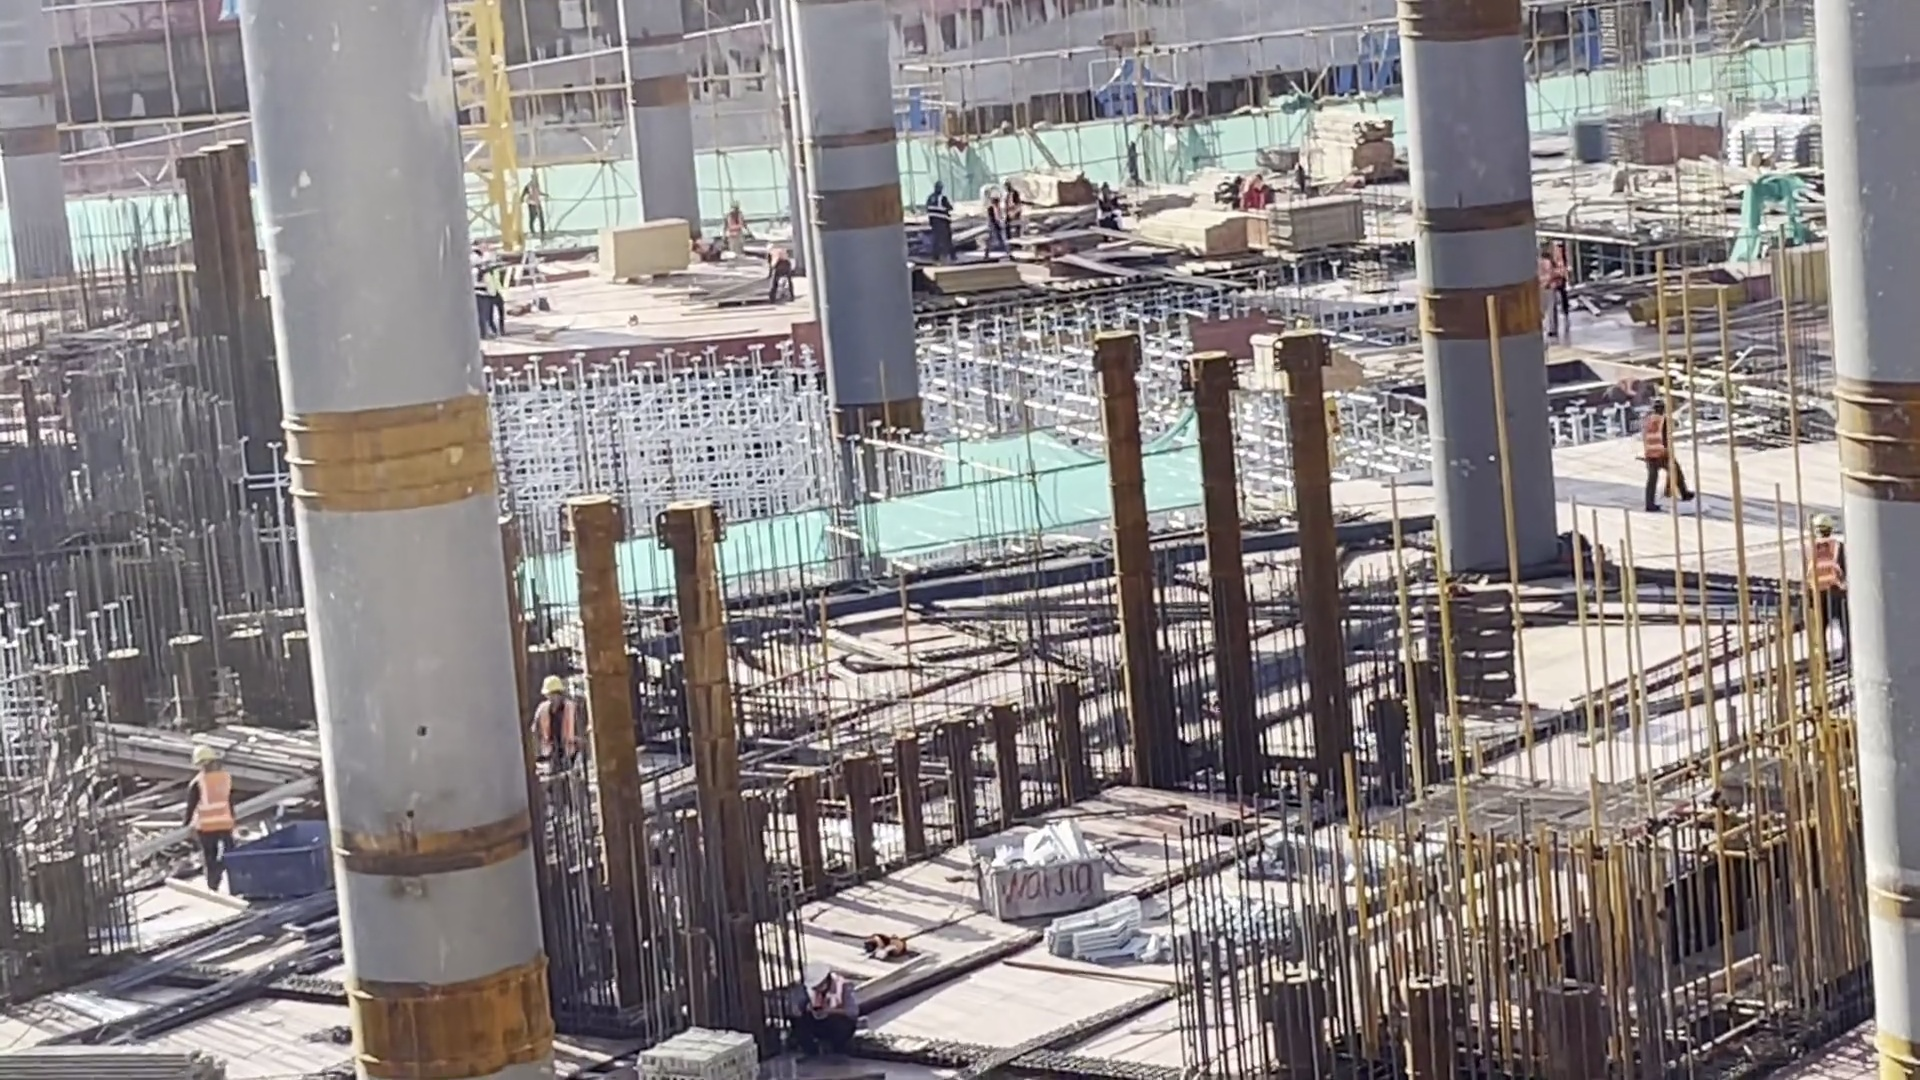helmet: (533, 668, 582, 709), (187, 734, 234, 768), (802, 953, 835, 996), (1807, 498, 1835, 530)
person: (1621, 394, 1708, 516), (175, 741, 249, 867), (1522, 227, 1586, 343), (518, 669, 588, 771), (1797, 508, 1849, 628), (792, 967, 856, 1052), (1209, 163, 1297, 222), (467, 242, 511, 341), (507, 174, 556, 249), (757, 245, 805, 308), (974, 171, 1007, 258), (718, 201, 752, 253), (926, 176, 947, 258)
vest: (179, 779, 242, 833), (1805, 541, 1845, 593), (537, 701, 579, 750), (1635, 405, 1676, 452), (1534, 253, 1578, 282)
